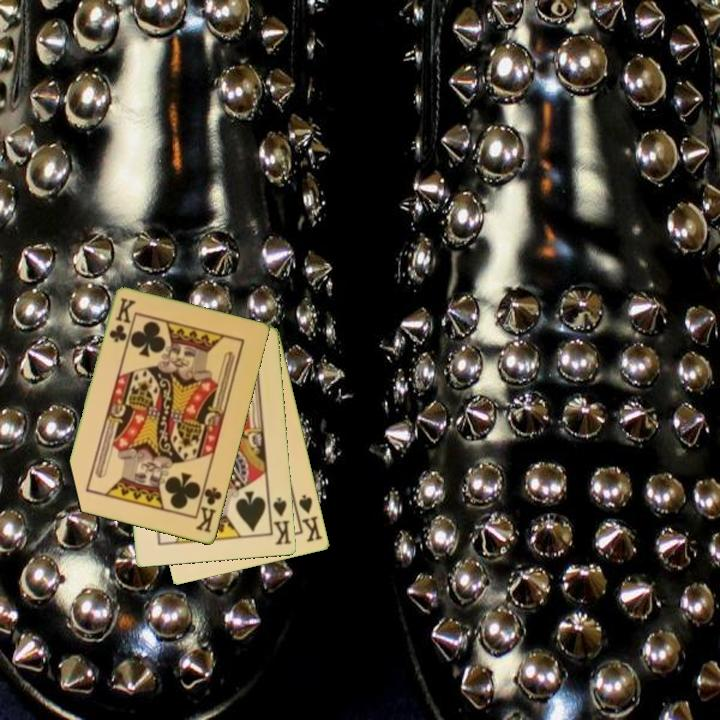Kc: (192, 480, 225, 536), (106, 294, 137, 346)
Ks: (295, 491, 326, 545), (266, 494, 295, 548)
